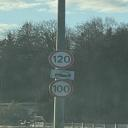speed_limit_100: (48, 78, 75, 100)
speed_limit_120: (47, 48, 76, 70)
